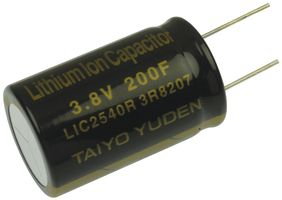capacitor: (4, 13, 245, 193)
